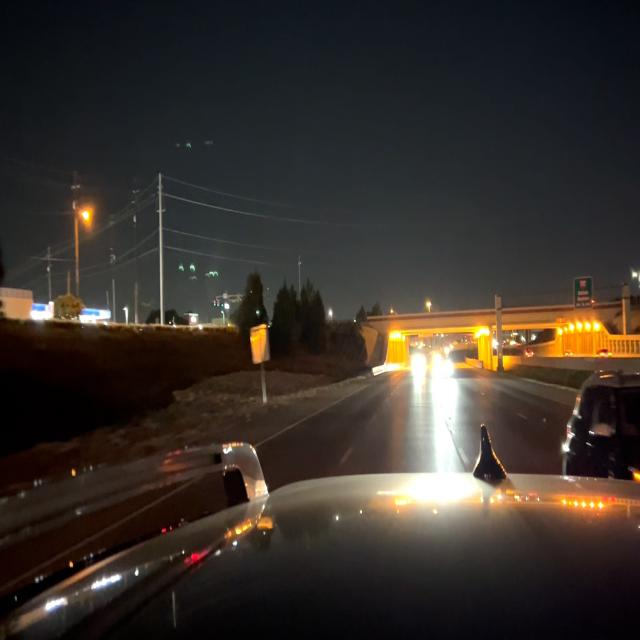back-of-sign: (252, 324, 268, 363)
